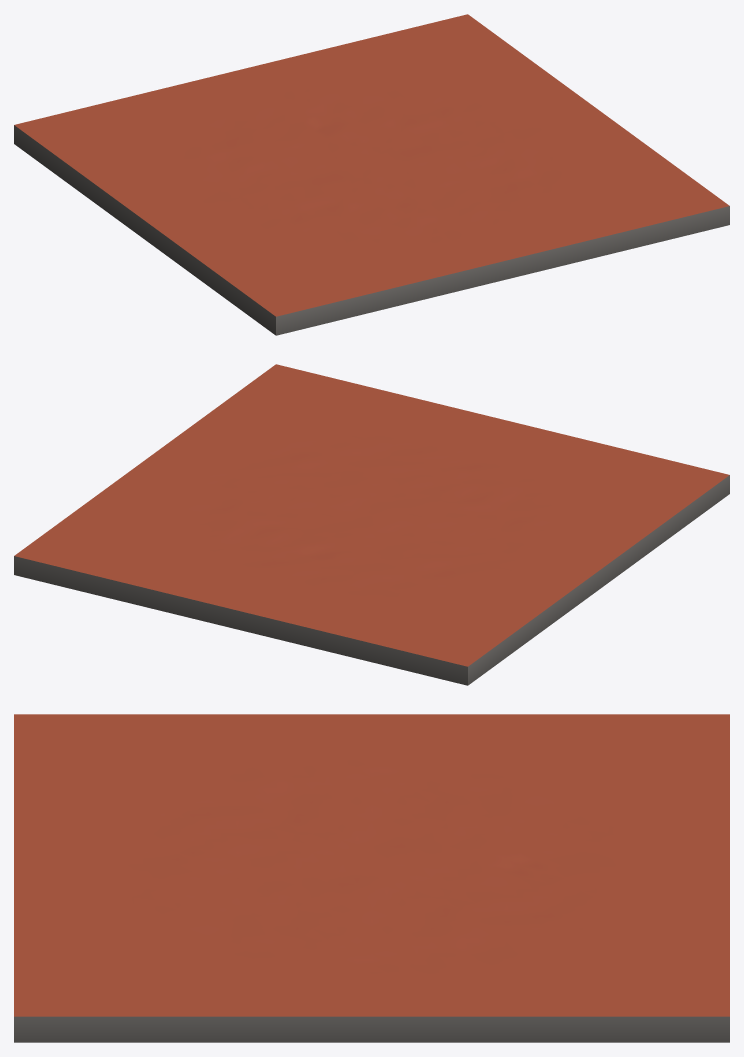
3 views of the same model, one above another, from view 1: azimuth 30°, elevation 25°; view 2: azimuth 150°, elevation 25°; view 3: azimuth 270°, elevation 25° (orthographic). The views are drawn at different scales.
Visible parts, largest first — view 1: far-proxy; view 2: far-proxy; view 3: far-proxy.
Part boxes in pixels (x1,y1,x2,y2): far-proxy: [14, 14, 729, 335]; far-proxy: [14, 364, 729, 685]; far-proxy: [14, 714, 729, 1042].
Bounding box in the file's own units: 500 × 20.23 × 500.
